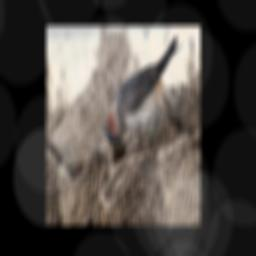Swallow: (99, 35, 185, 144)
